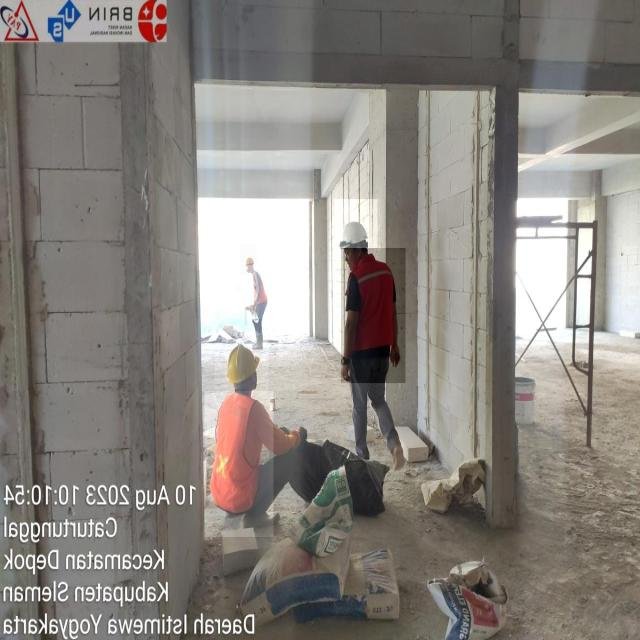Helmet: (214, 331, 268, 402), (334, 199, 378, 260), (240, 243, 258, 276)
Safety Vest: (204, 391, 274, 537), (341, 248, 405, 383), (247, 265, 271, 319)
